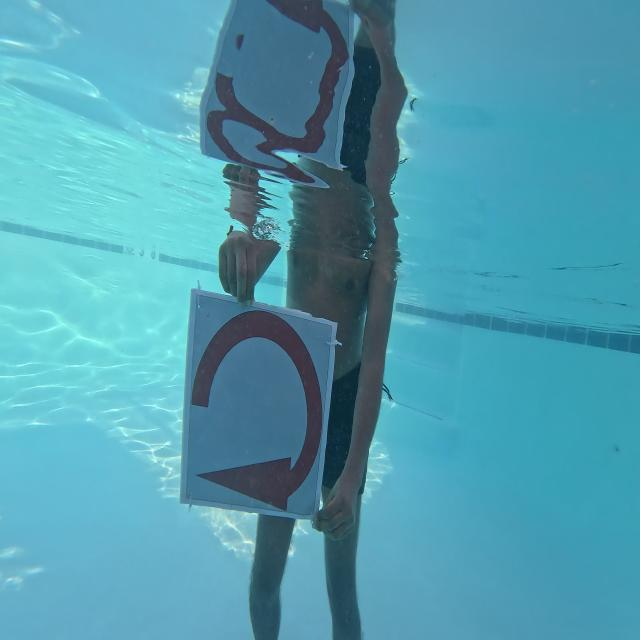red_side: (188, 306, 327, 505)
